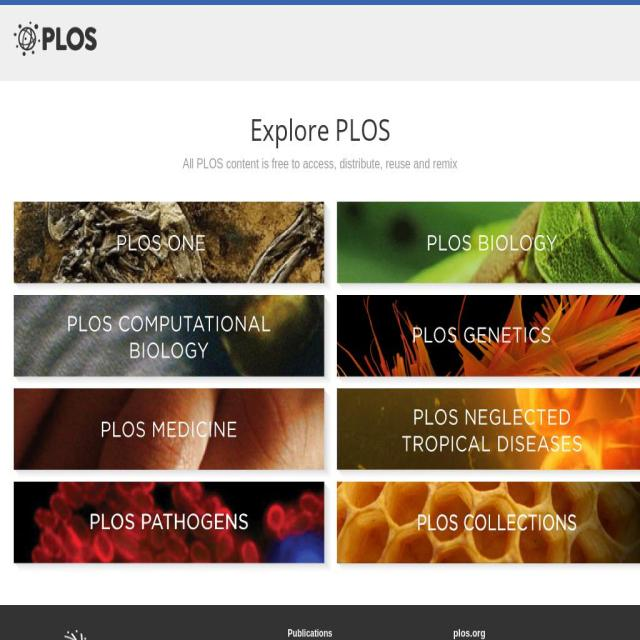button: (14, 426, 337, 442), (337, 426, 640, 442), (14, 240, 337, 255), (14, 520, 337, 535), (337, 240, 640, 255), (337, 520, 640, 535), (14, 334, 337, 348), (337, 334, 640, 348), (14, 30, 100, 45)
heading: (14, 111, 626, 149)
image: (14, 388, 334, 482), (14, 202, 334, 295), (14, 295, 334, 388), (14, 482, 334, 575), (337, 388, 640, 482), (337, 202, 640, 295), (337, 295, 640, 388), (337, 482, 640, 575), (14, 22, 100, 56), (20, 626, 92, 640)
link: (288, 628, 333, 639), (453, 627, 486, 639)
text: (14, 156, 626, 172)
